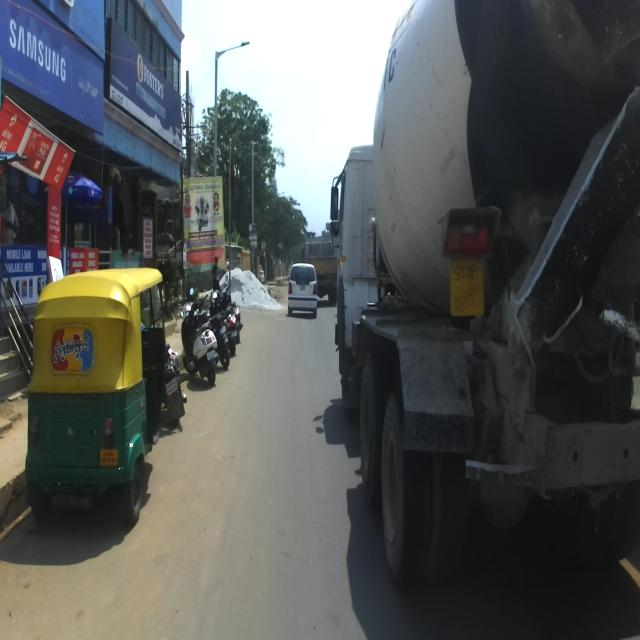auto ahead at: (27, 262, 171, 524)
motorcycle ahead at: (178, 293, 224, 390)
truck ahead at: (328, 1, 640, 592)
